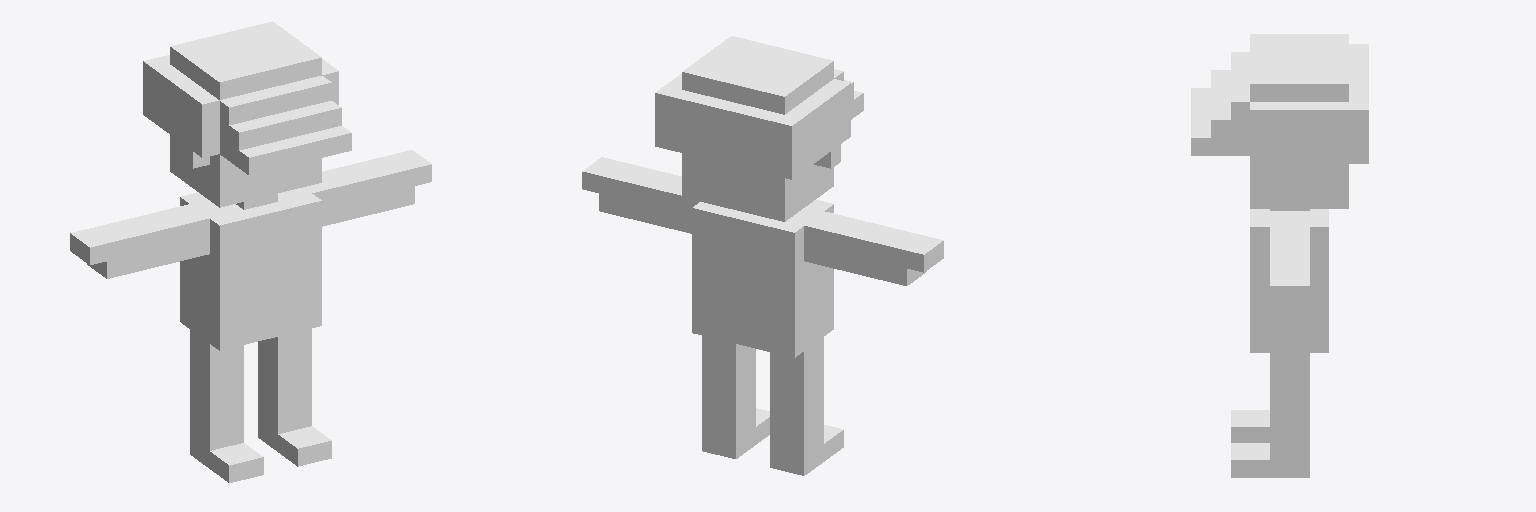
Rendered from market_cashier_male.obj.
The picture shows the model from 3 angles: view 1: azimuth 30°, elevation 25°; view 2: azimuth 150°, elevation 25°; view 3: azimuth 270°, elevation 25°; orthographic projection.
Parts seen in each view (by area): view 1: object 1; view 2: object 1; view 3: object 1.
Boxes of the visible parts, box(x1,y1,x2,y2) form: object 1: box(70, 21, 431, 482); object 1: box(582, 36, 943, 475); object 1: box(1191, 34, 1368, 477).
Size of the model in its own units: 2 by 2.2 by 0.9.